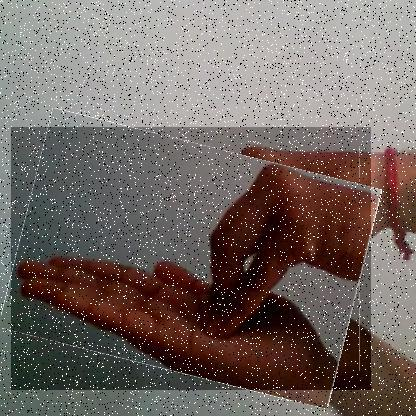Z: (10, 127, 371, 391)
